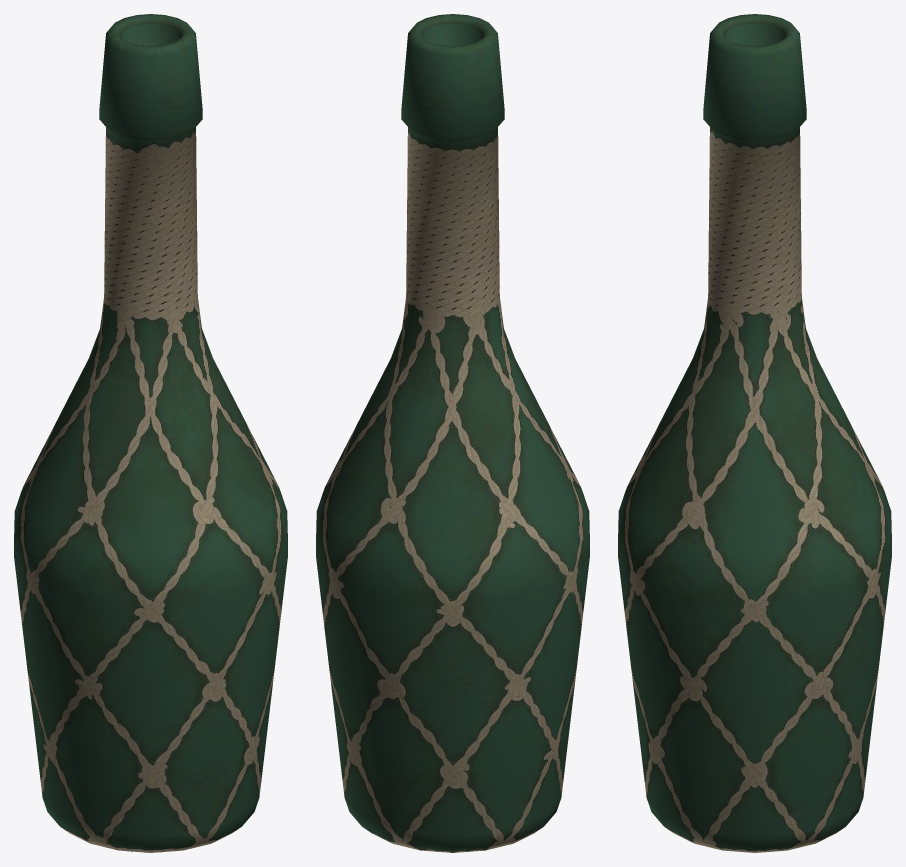
Rendered from bottle_wine.glb.
3 renders of one model, left to right at view 1: azimuth 30°, elevation 25°; view 2: azimuth 150°, elevation 25°; view 3: azimuth 270°, elevation 25°, orthographic.
Parts seen in each view (by area): view 1: bottle_05L_1_03 - Default_0; view 2: bottle_05L_1_03 - Default_0; view 3: bottle_05L_1_03 - Default_0.
Boxes of the visible parts, left/top/right/bottom form: bottle_05L_1_03 - Default_0: left=14, top=14, right=287, bottom=852; bottle_05L_1_03 - Default_0: left=316, top=14, right=589, bottom=852; bottle_05L_1_03 - Default_0: left=618, top=14, right=891, bottom=852.
Bounding box in the file's own units: 3.01 × 9.35 × 2.96.
1 material, 1 textured.
